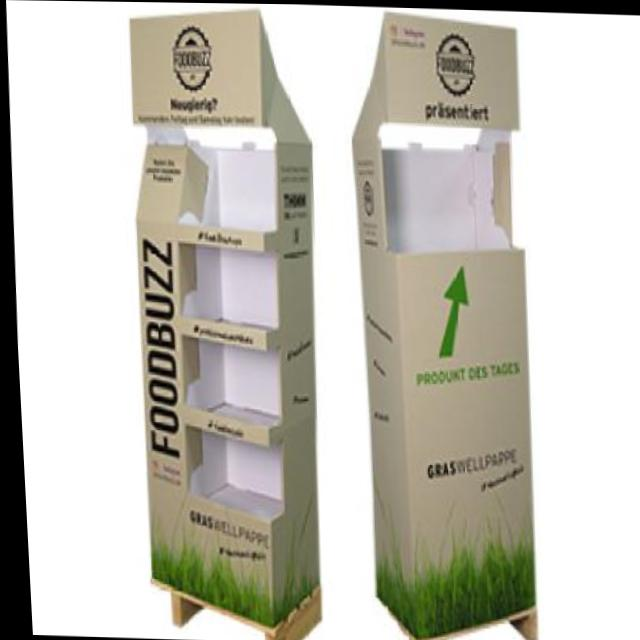box: (99, 1, 342, 640), (320, 4, 559, 640)
